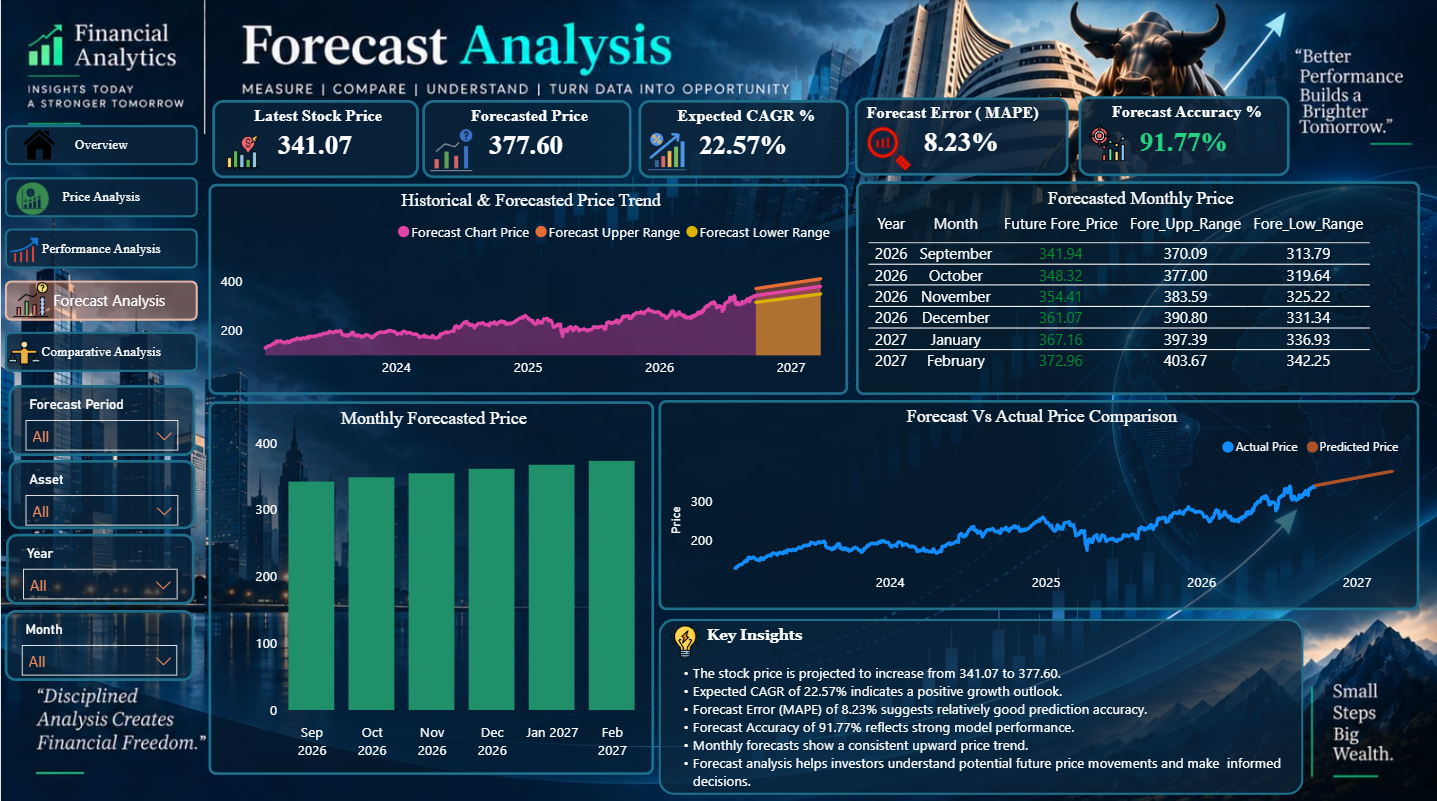

Layout of this report page (visuals, bound fields, positions):
{"tool":"powerbi","page":{"name":"Forecast  Analysis","canvas":[1280,720],"ordinal":3},"visuals":[{"type":"card","title":"Forecast Error ( MAPE)","fields":{"Values":["Forecast Period.Forecast MAPE %"]},"box":[760.5,87.2,190.7,69.8],"z":0},{"type":"card","title":"Forecast Accuracy % ","fields":{"Values":["Forecast Period.Forecast Accuracy %"]},"box":[959.3,86,188.4,70.9],"z":1000},{"type":"card","title":" Latest Stock Price ","fields":{"Values":["Forecast Period.Latest Stock Price"]},"box":[188.4,89.5,183.7,69.8],"z":2000},{"type":"card","title":"Forecasted Price","fields":{"Values":["Forecast Period.Forecasted Price"]},"box":[375.6,89.5,186,69.8],"z":3000},{"type":"card","title":"Expected CAGR % ","fields":{"Values":["Forecast Period.Expected CAGR %"]},"box":[567.4,89.5,187.2,69.8],"z":4000},{"type":"image","box":[376.7,100,50,67.4],"z":5000},{"type":"image","box":[569.8,96.5,46.5,75.6],"z":6000},{"type":"image","box":[188.5,115.9,52.2,40.8],"z":7000},{"type":"image","box":[955.6,106.2,59.3,43.2],"z":8000},{"type":"image","box":[765.1,108.1,52.3,48.8],"z":9000},{"type":"pageNavigator","box":[3.5,111.6,172.1,223.3],"z":10000},{"type":"image","box":[0,184.7,42,75.2],"z":11000},{"type":"image","box":[5.1,240.8,42,53.5],"z":12000},{"type":"image","box":[8.9,142.7,38.2,68.8],"z":13000},{"type":"image","box":[5.1,91.7,57.3,75.2],"z":14000},{"type":"image","box":[0,277.7,42,73.9],"z":15000},{"type":"lineChart","title":"Historical & Forecasted Price Trend","fields":{"Category":["Forecast Calendar.Date.Variation.Date Hierarchy.Year","Forecast Calendar.Date.Variation.Date Hierarchy.Quarter","Forecast Calendar.Date.Variation.Date Hierarchy.Month","Forecast Calendar.Date.Variation.Date Hierarchy.Day"],"Y":["Forecast Period.Forecast Chart Price","Forecast Period.Forecast Upper Range","Forecast Period.Forecast Lower Range"]},"box":[184.9,164,569.8,188.4],"z":16000},{"type":"clusteredColumnChart","title":"Monthly Forecasted Price","fields":{"Category":["Forecast Calendar.Forecast Month"],"Y":["Forecast Period.Future Forecast Price"]},"box":[184.9,357,396.5,332.6],"z":17000},{"type":"tableEx","title":"Forecasted Monthly Price","fields":{"Values":["Forecast Calendar.Date.Variation.Date Hierarchy.Year","Forecast Calendar.Date.Variation.Date Hierarchy.Month","Forecast Period.Future Forecast Price","Forecast Period.Forecast Upper Range","Forecast Period.Forecast Lower Range"]},"box":[761.6,161.6,502.3,190.7],"z":18000},{"type":"shape","box":[585.5,551,574.4,157],"z":19000},{"type":"textbox","box":[593.3,551,554.4,157],"z":20000},{"type":"image","box":[587.8,546.6,43.4,47.9],"z":21000},{"type":"slicer","title":" Current Price ","fields":{"Values":["Daily_Data.Year"]},"box":[4.9,475.3,167.9,63],"z":22000},{"type":"slicer","title":" Current Price ","fields":{"Values":["Daily_Data.Month"]},"box":[3.7,543.2,169.1,63],"z":23000},{"type":"slicer","title":" Current Price ","fields":{"Values":["Asset Selector.Asset"]},"box":[6.2,409.9,166.7,61.7],"z":24000},{"type":"slicer","title":" Current Price ","fields":{"Values":["Forecast Period.Period"]},"box":[6.2,343.2,166.7,63],"z":25000},{"type":"lineChart","title":"Forecast Vs Actual Price Comparison","fields":{"Category":["Forecast Calendar.Date"],"Y":["Forecast Period.Actual Price for Comparison","Forecast Period.Predicted Price for Comparison"]},"box":[585.5,356.2,677.9,187],"z":26000}]}

Visuals, with their boxes in screenshot pixels (x1, y1, x2, y2), scaled from the page's 1280x720 canvas onto the 1437x801 screenshot:
"Forecast Error ( MAPE)" card: BBox(854, 97, 1068, 175)
"Forecast Accuracy % " card: BBox(1077, 96, 1288, 175)
" Latest Stock Price " card: BBox(212, 100, 418, 177)
"Forecasted Price" card: BBox(422, 100, 630, 177)
"Expected CAGR % " card: BBox(637, 100, 847, 177)
image: BBox(423, 111, 479, 186)
image: BBox(640, 107, 692, 191)
image: BBox(212, 129, 270, 174)
image: BBox(1073, 118, 1139, 166)
image: BBox(859, 120, 918, 175)
pageNavigator: BBox(4, 124, 197, 373)
image: BBox(0, 205, 47, 289)
image: BBox(6, 268, 53, 327)
image: BBox(10, 159, 53, 235)
image: BBox(6, 102, 70, 186)
image: BBox(0, 309, 47, 391)
"Historical & Forecasted Price Trend" lineChart: BBox(208, 182, 847, 392)
"Monthly Forecasted Price" clusteredColumnChart: BBox(208, 397, 653, 767)
"Forecasted Monthly Price" tableEx: BBox(855, 180, 1419, 392)
shape: BBox(657, 613, 1302, 788)
textbox: BBox(666, 613, 1288, 788)
image: BBox(660, 608, 709, 661)
" Current Price " slicer: BBox(6, 529, 194, 599)
" Current Price " slicer: BBox(4, 604, 194, 674)
" Current Price " slicer: BBox(7, 456, 194, 525)
" Current Price " slicer: BBox(7, 382, 194, 452)
"Forecast Vs Actual Price Comparison" lineChart: BBox(657, 396, 1418, 604)
